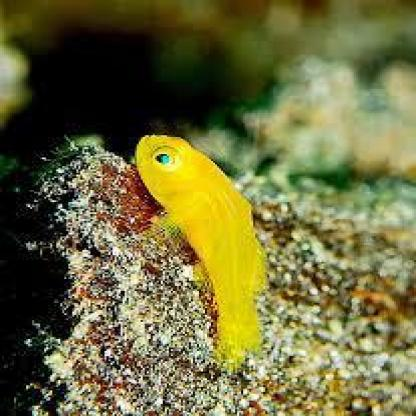other: (141, 116, 273, 376)
